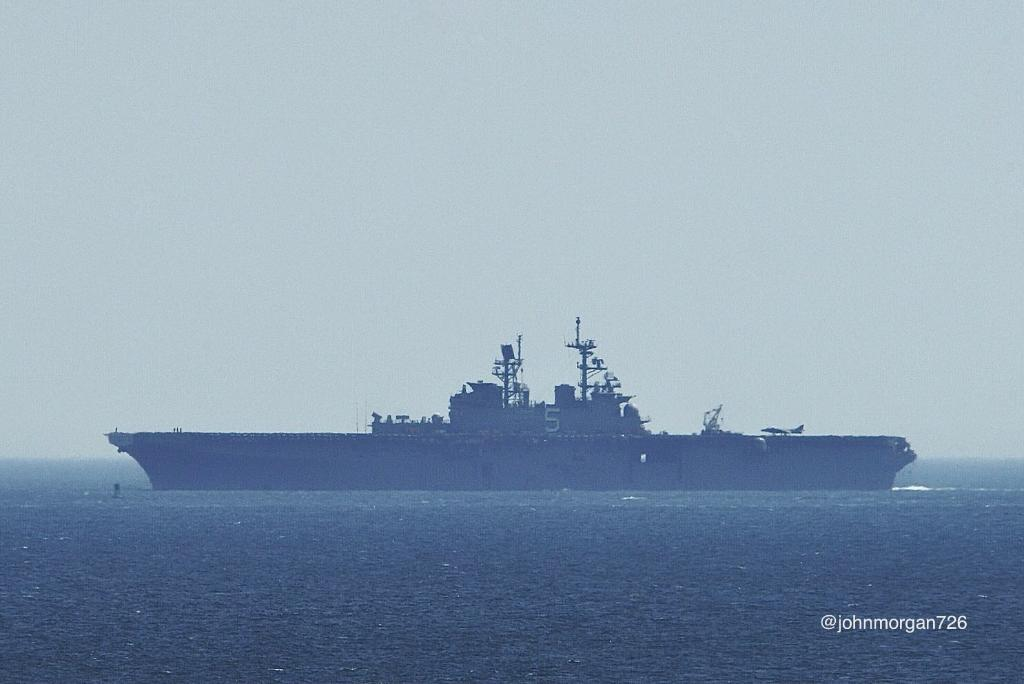Warship: (106, 336, 924, 492)
